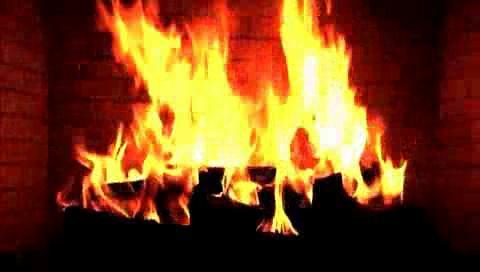fire: (72, 0, 417, 235)
